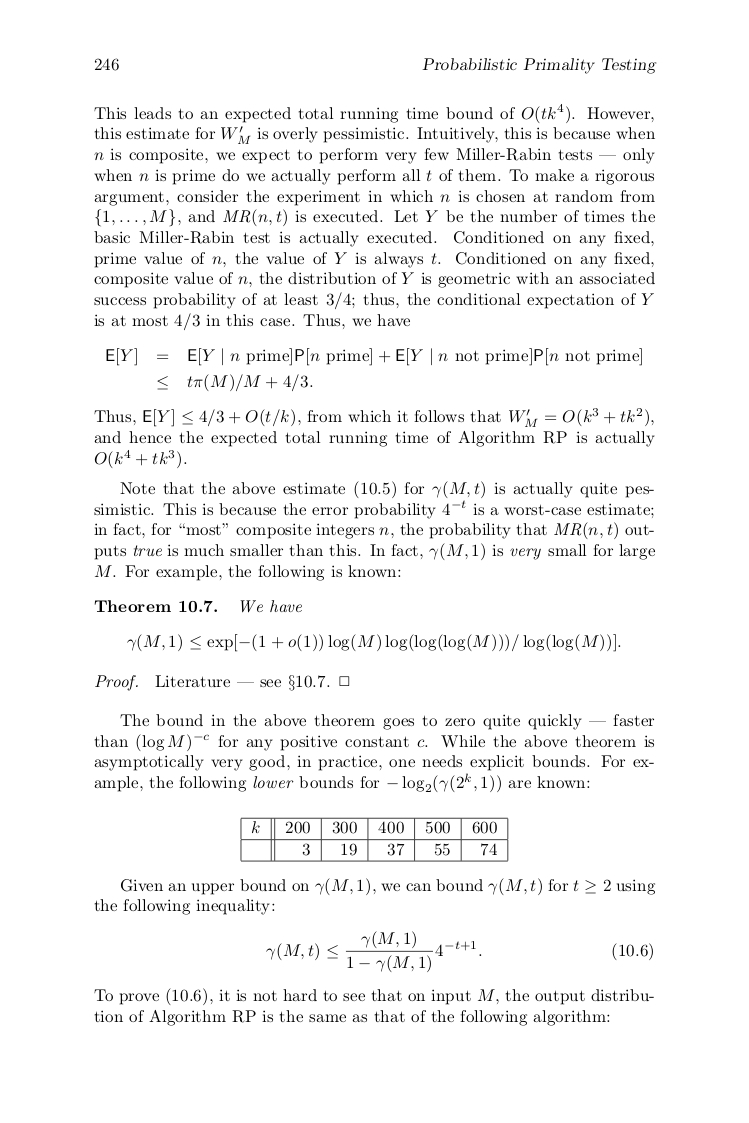Table: (240, 816, 508, 862)
formula: (266, 930, 652, 973), (106, 347, 641, 366), (157, 373, 312, 392), (94, 449, 186, 469)
